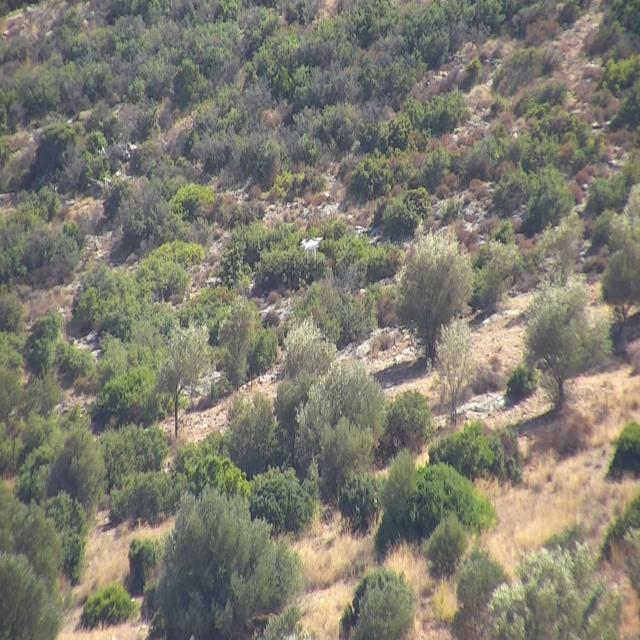drone: (297, 231, 325, 264)
